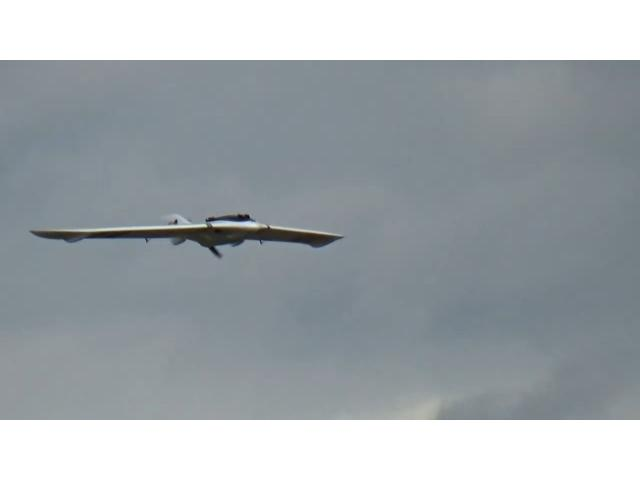Anti-Drone: (28, 211, 346, 251)
